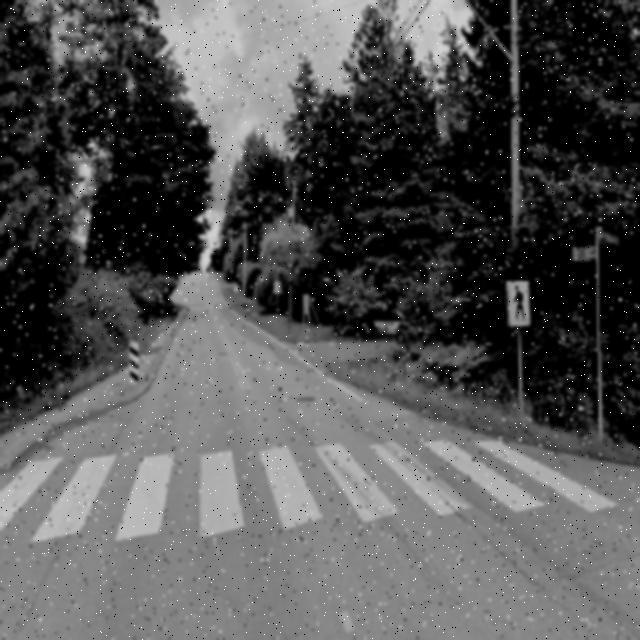Pedestrian crosswalk: (2, 437, 634, 573)
